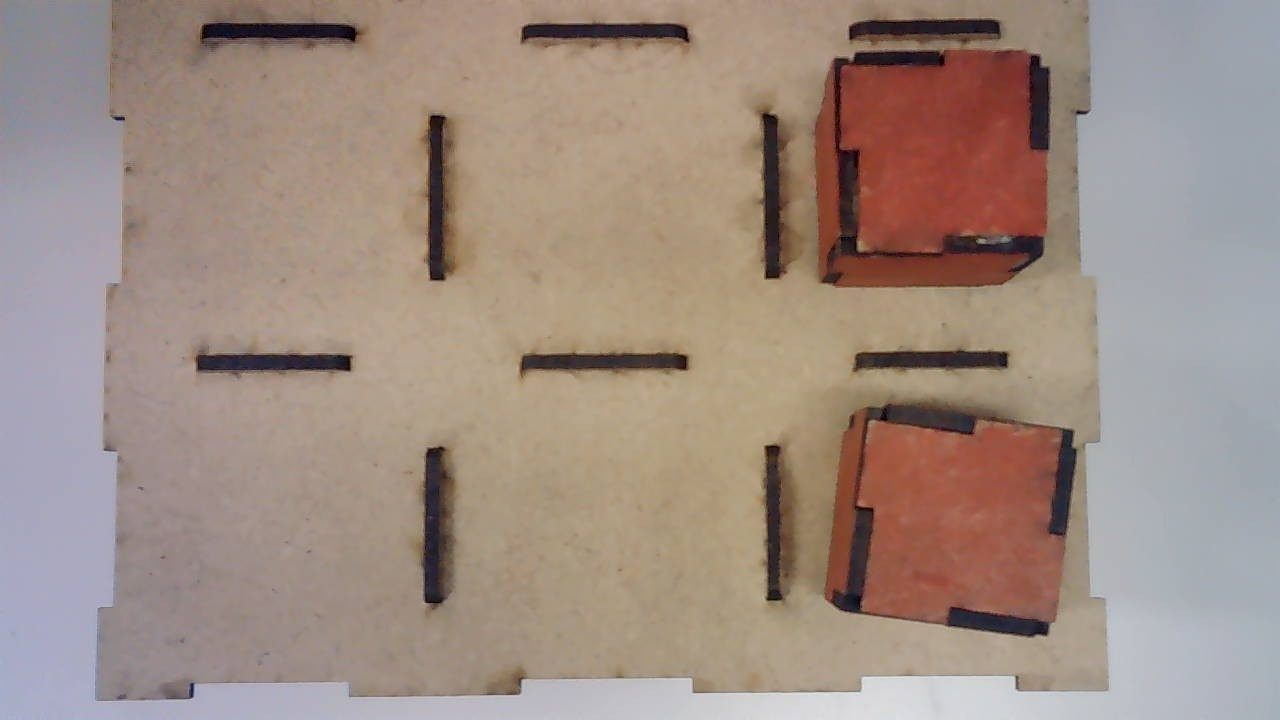red box: (825, 403, 1073, 645), (817, 53, 1040, 288)
